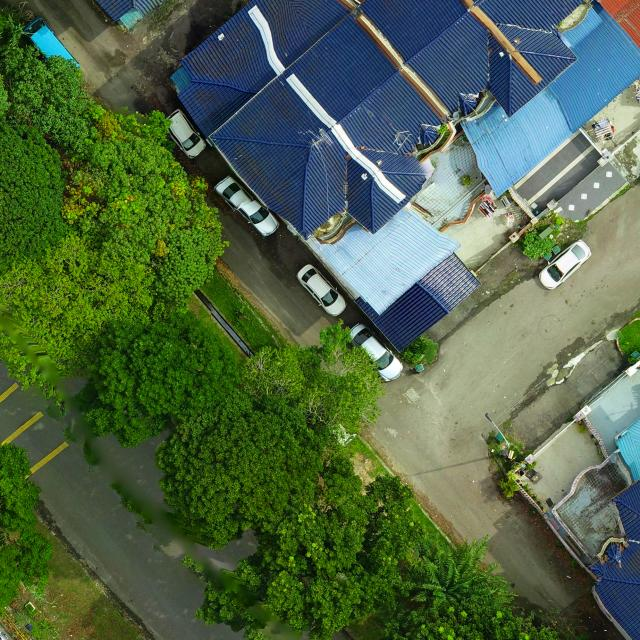Tree: (192, 452, 418, 640), (59, 102, 232, 308), (152, 389, 326, 546), (68, 308, 245, 445), (0, 230, 155, 380), (244, 317, 387, 436), (395, 524, 519, 617), (0, 123, 73, 275), (1, 44, 91, 154), (522, 231, 558, 261)
